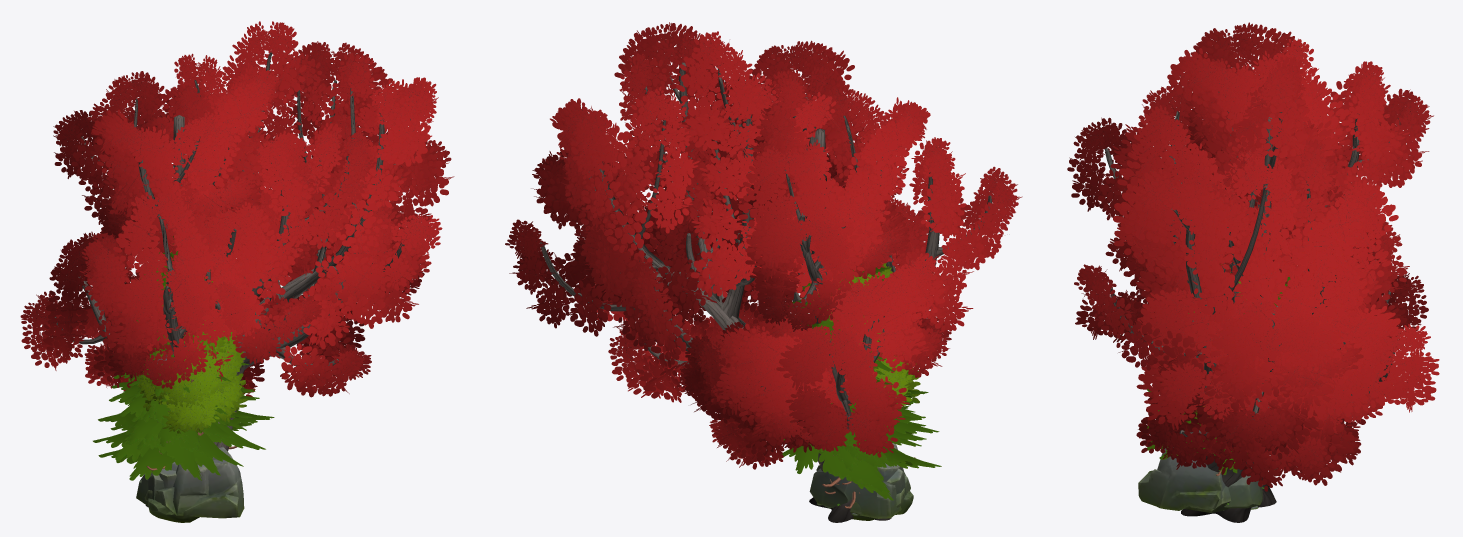
File: nature.glb
3 views of the same model, side by side, from view 1: azimuth 30°, elevation 25°; view 2: azimuth 150°, elevation 25°; view 3: azimuth 270°, elevation 25° (orthographic). The views are drawn at different scales.
Visible parts, largest first — view 1: TwistedTree_3, TwistedTree_1, Rock_Medium_3, Pine_2, Pine_5, Pine_4, CommonTree_3, CommonTree_1, CommonTree_2, Rock_Medium_1, Pine_1; view 2: TwistedTree_1, TwistedTree_3, Pine_5, Rock_Medium_2, Pine_2, Pine_4; view 3: TwistedTree_1, TwistedTree_3, Rock_Medium_3, Rock_Medium_2.
Part boxes in pixels (<box>): TwistedTree_3: <box>20,53,376,396</box>; TwistedTree_1: <box>105,21,454,507</box>; Rock_Medium_3: <box>148,447,244,522</box>; Pine_2: <box>98,339,253,480</box>; Pine_5: <box>93,380,274,475</box>; Pine_4: <box>98,236,255,470</box>; CommonTree_3: <box>141,278,245,411</box>; CommonTree_1: <box>139,334,247,433</box>; CommonTree_2: <box>136,330,245,435</box>; Rock_Medium_1: <box>144,464,209,515</box>; Pine_1: <box>110,336,242,450</box>; TwistedTree_1: <box>505,22,927,522</box>; TwistedTree_3: <box>676,40,1022,469</box>; Pine_5: <box>783,291,930,492</box>; Rock_Medium_2: <box>809,463,901,518</box>; Pine_2: <box>781,377,941,500</box>; Pine_4: <box>801,267,939,508</box>; TwistedTree_1: <box>1074,56,1439,522</box>; TwistedTree_3: <box>1067,22,1433,479</box>; Rock_Medium_3: <box>1138,447,1225,510</box>; Rock_Medium_2: <box>1224,475,1262,508</box>.
Bounding box in the file's own units: 4.75 × 5.05 × 3.51.
11 materials, 11 textured.
